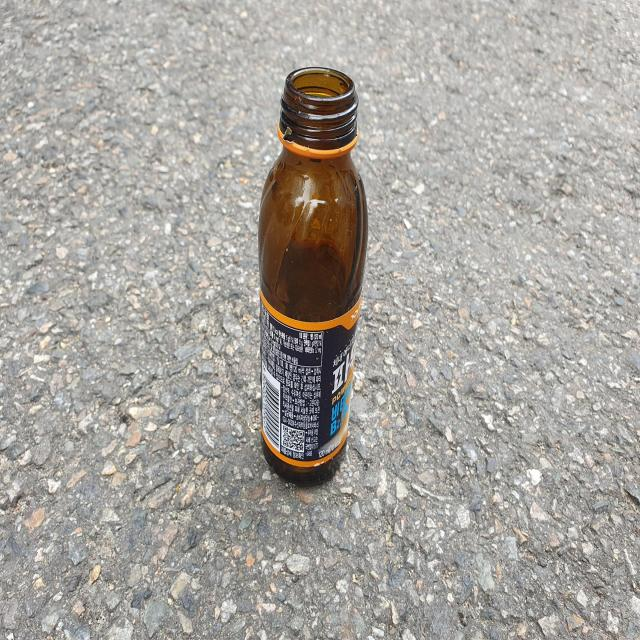glass: (258, 66, 368, 486)
